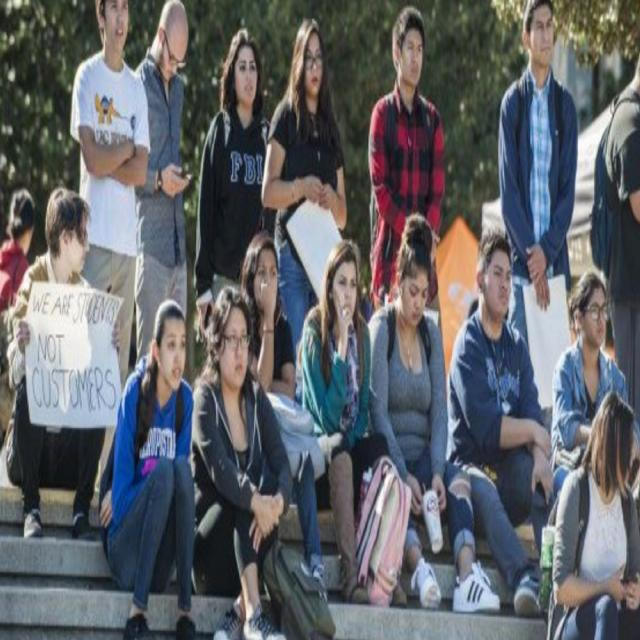body: (351, 209, 501, 613), (445, 226, 557, 621), (292, 235, 409, 611), (4, 186, 123, 545), (179, 284, 294, 639), (70, 0, 152, 481), (260, 14, 350, 410), (97, 297, 198, 639), (240, 227, 328, 590), (497, 0, 579, 346), (366, 4, 446, 349), (194, 27, 276, 348), (541, 386, 639, 638), (130, 0, 191, 368), (548, 269, 640, 501), (588, 53, 640, 420), (0, 186, 38, 314)
